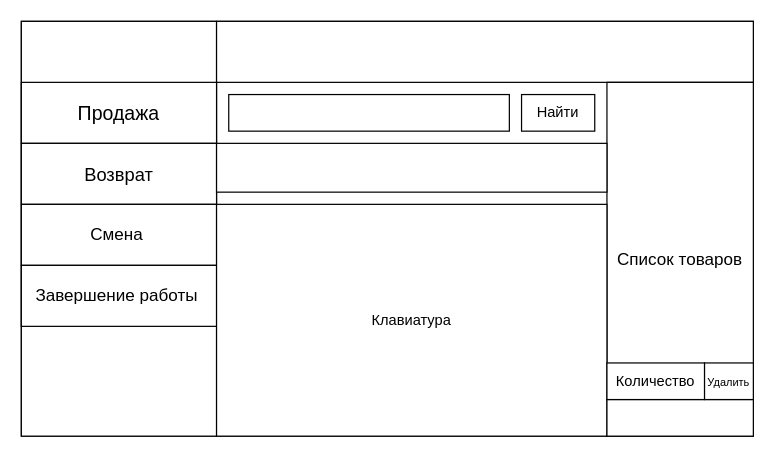
This 775x458 diagram has some shape labels left out. The shapes that lost their labels are listed below. From the top down, each one's centre as x and y in pixels, then its label:
At point 484,51: "ФИО пользователя".
At point 368,112: "id товара".
At point 411,167: "Цена".
At point 679,417: "Операция".
